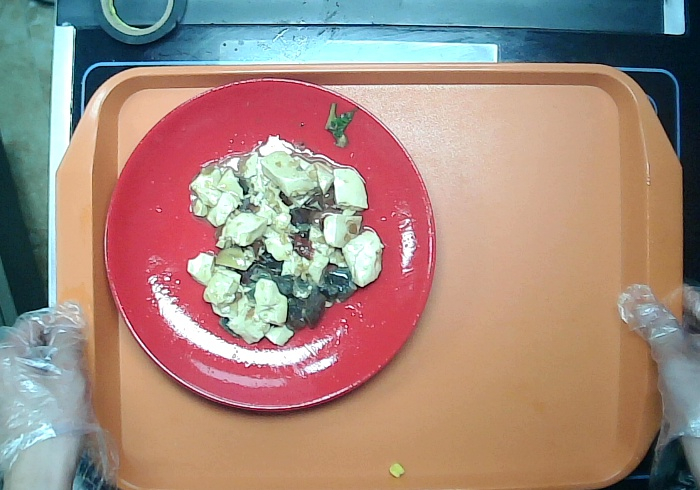HZYJPL-Hong_Se_Yuan_Pan: (95, 68, 446, 419)
